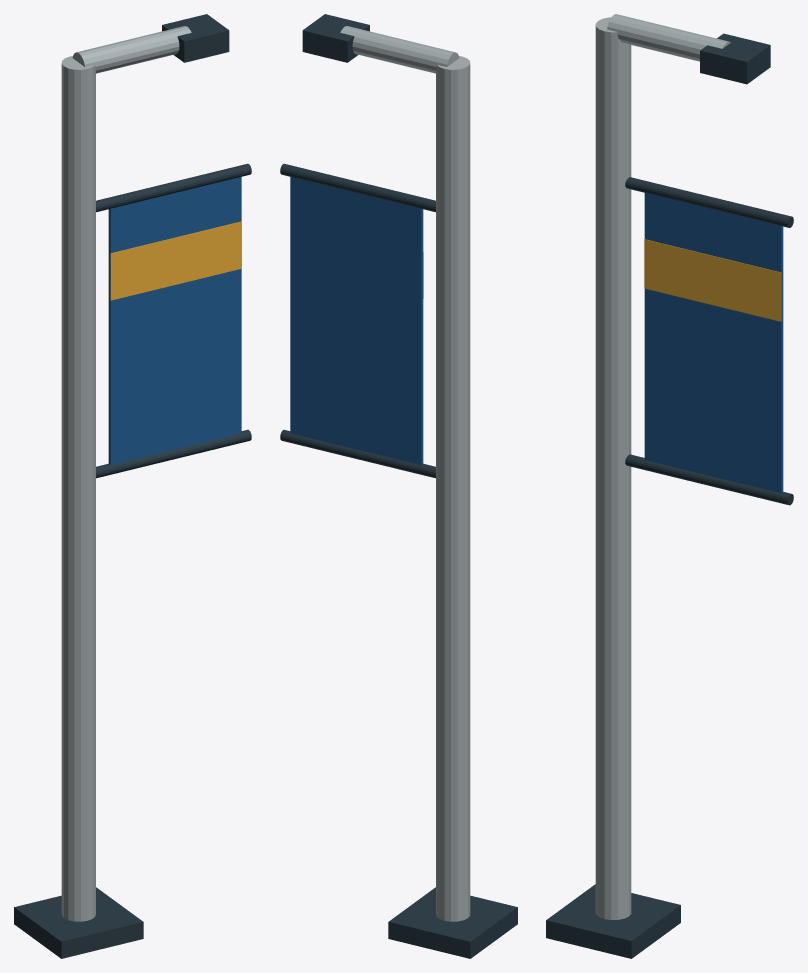
File: scendance-plan-lamp-post-banner.glb
3 renders of one model, left to right at view 1: azimuth 30°, elevation 25°; view 2: azimuth 150°, elevation 25°; view 3: azimuth 330°, elevation 25°, orthographic. The views are drawn at different scales.
Bounding box in the file's own units: 1.03 × 4.09 × 0.4.
